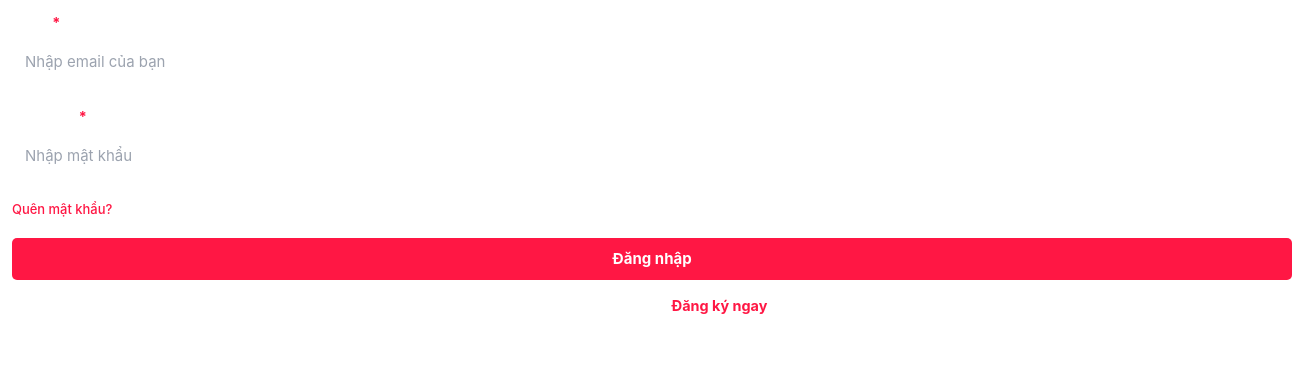
Test case: LoginForm Component › displays error message on login failure
Step 1. Type "test@example.com" into the field labelled "Email*" → (652, 62), box [12, 40, 1292, 84]
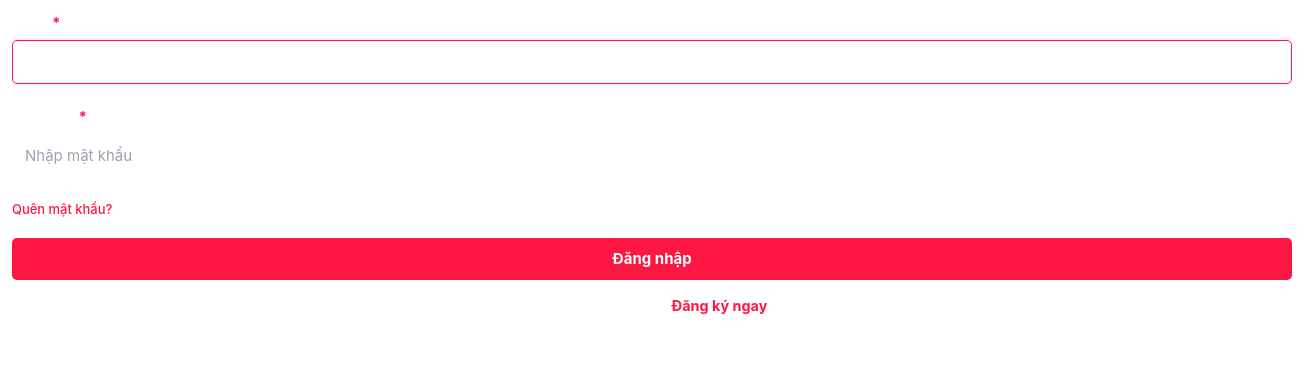
Step 2. Type "wrongpassword" into the password field labelled "Mật khẩu*" → (652, 156), box [12, 134, 1292, 178]
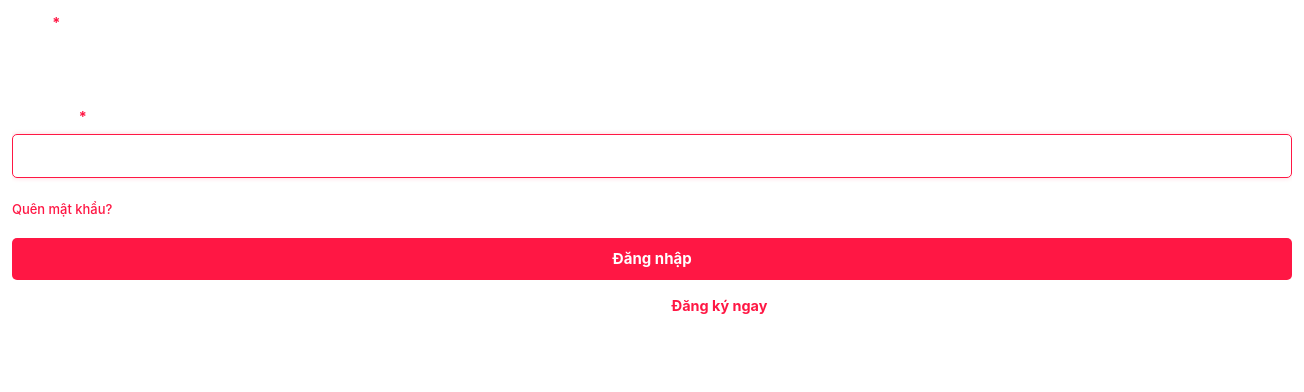
Step 3. Click the button "Đăng nhập" → (652, 259), box [12, 238, 1292, 280]
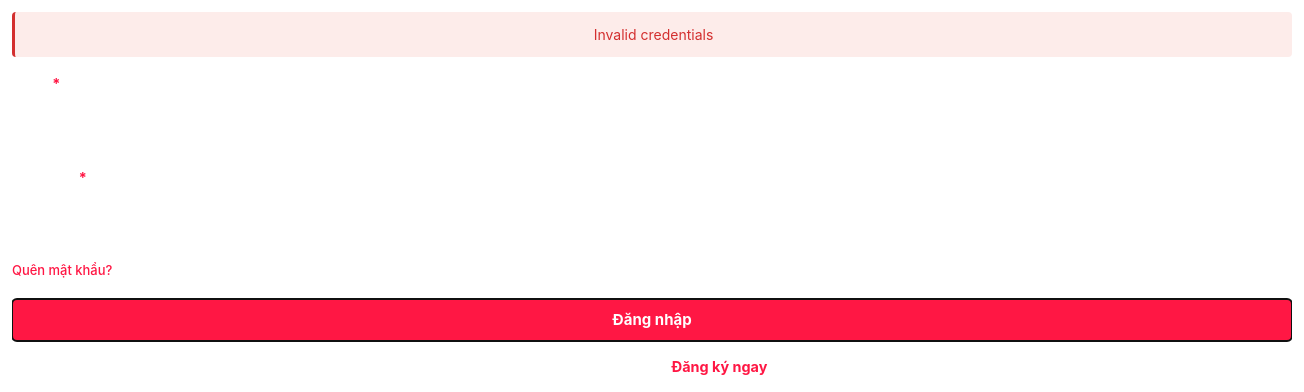
Expected: the text "Invalid credentials" is shown, [12, 12, 1292, 57]
